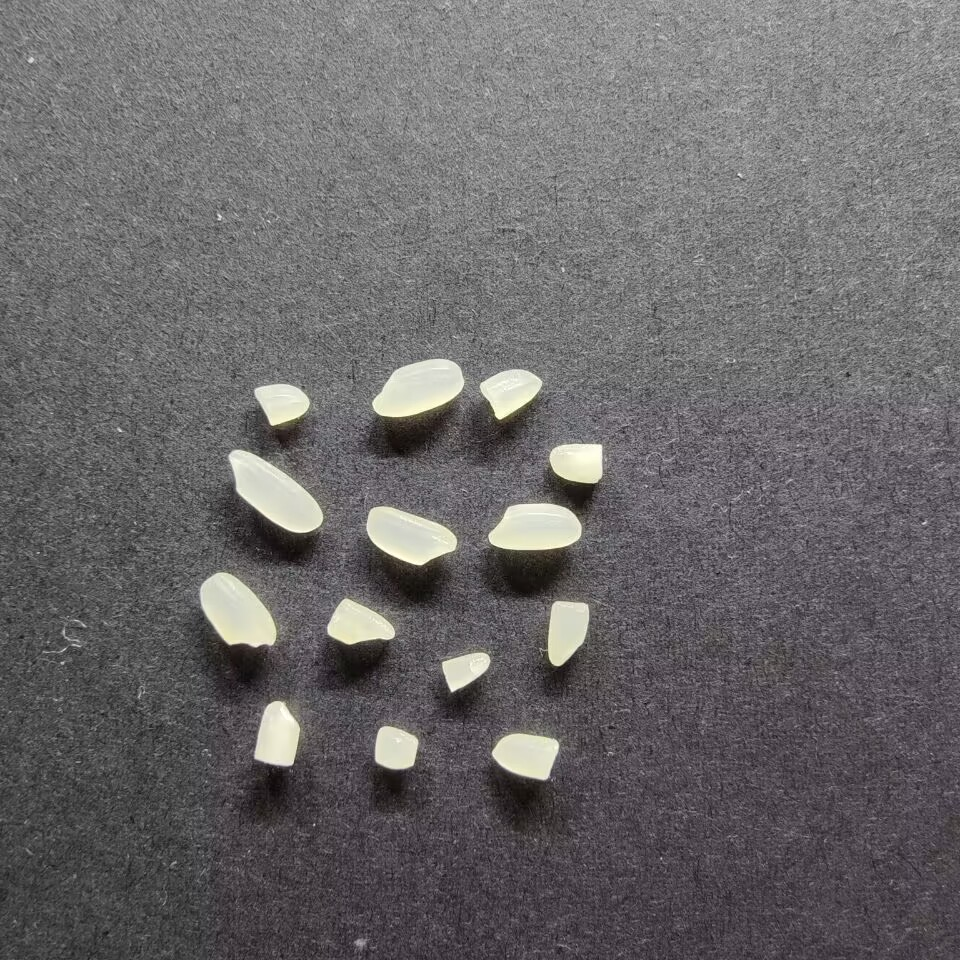broken: (325, 597, 396, 647), (478, 368, 542, 420), (490, 732, 559, 780), (253, 699, 301, 767), (547, 598, 590, 666), (253, 383, 309, 425), (548, 442, 604, 484), (438, 651, 491, 693), (373, 724, 418, 771)
rice: (227, 449, 323, 535), (198, 570, 277, 647), (365, 506, 458, 567), (371, 359, 464, 417), (487, 502, 581, 551)
